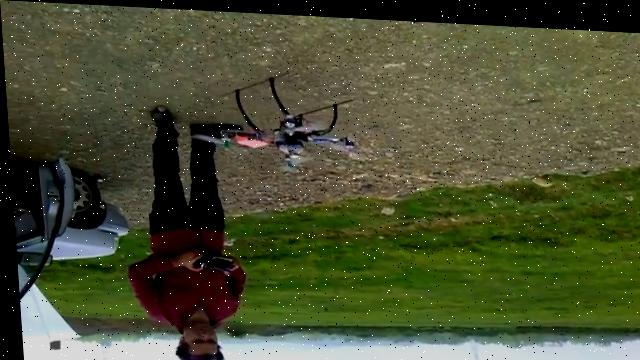drone: (187, 64, 360, 174)
